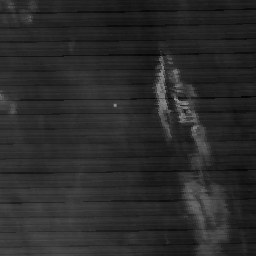Target: (112, 102, 118, 108)
